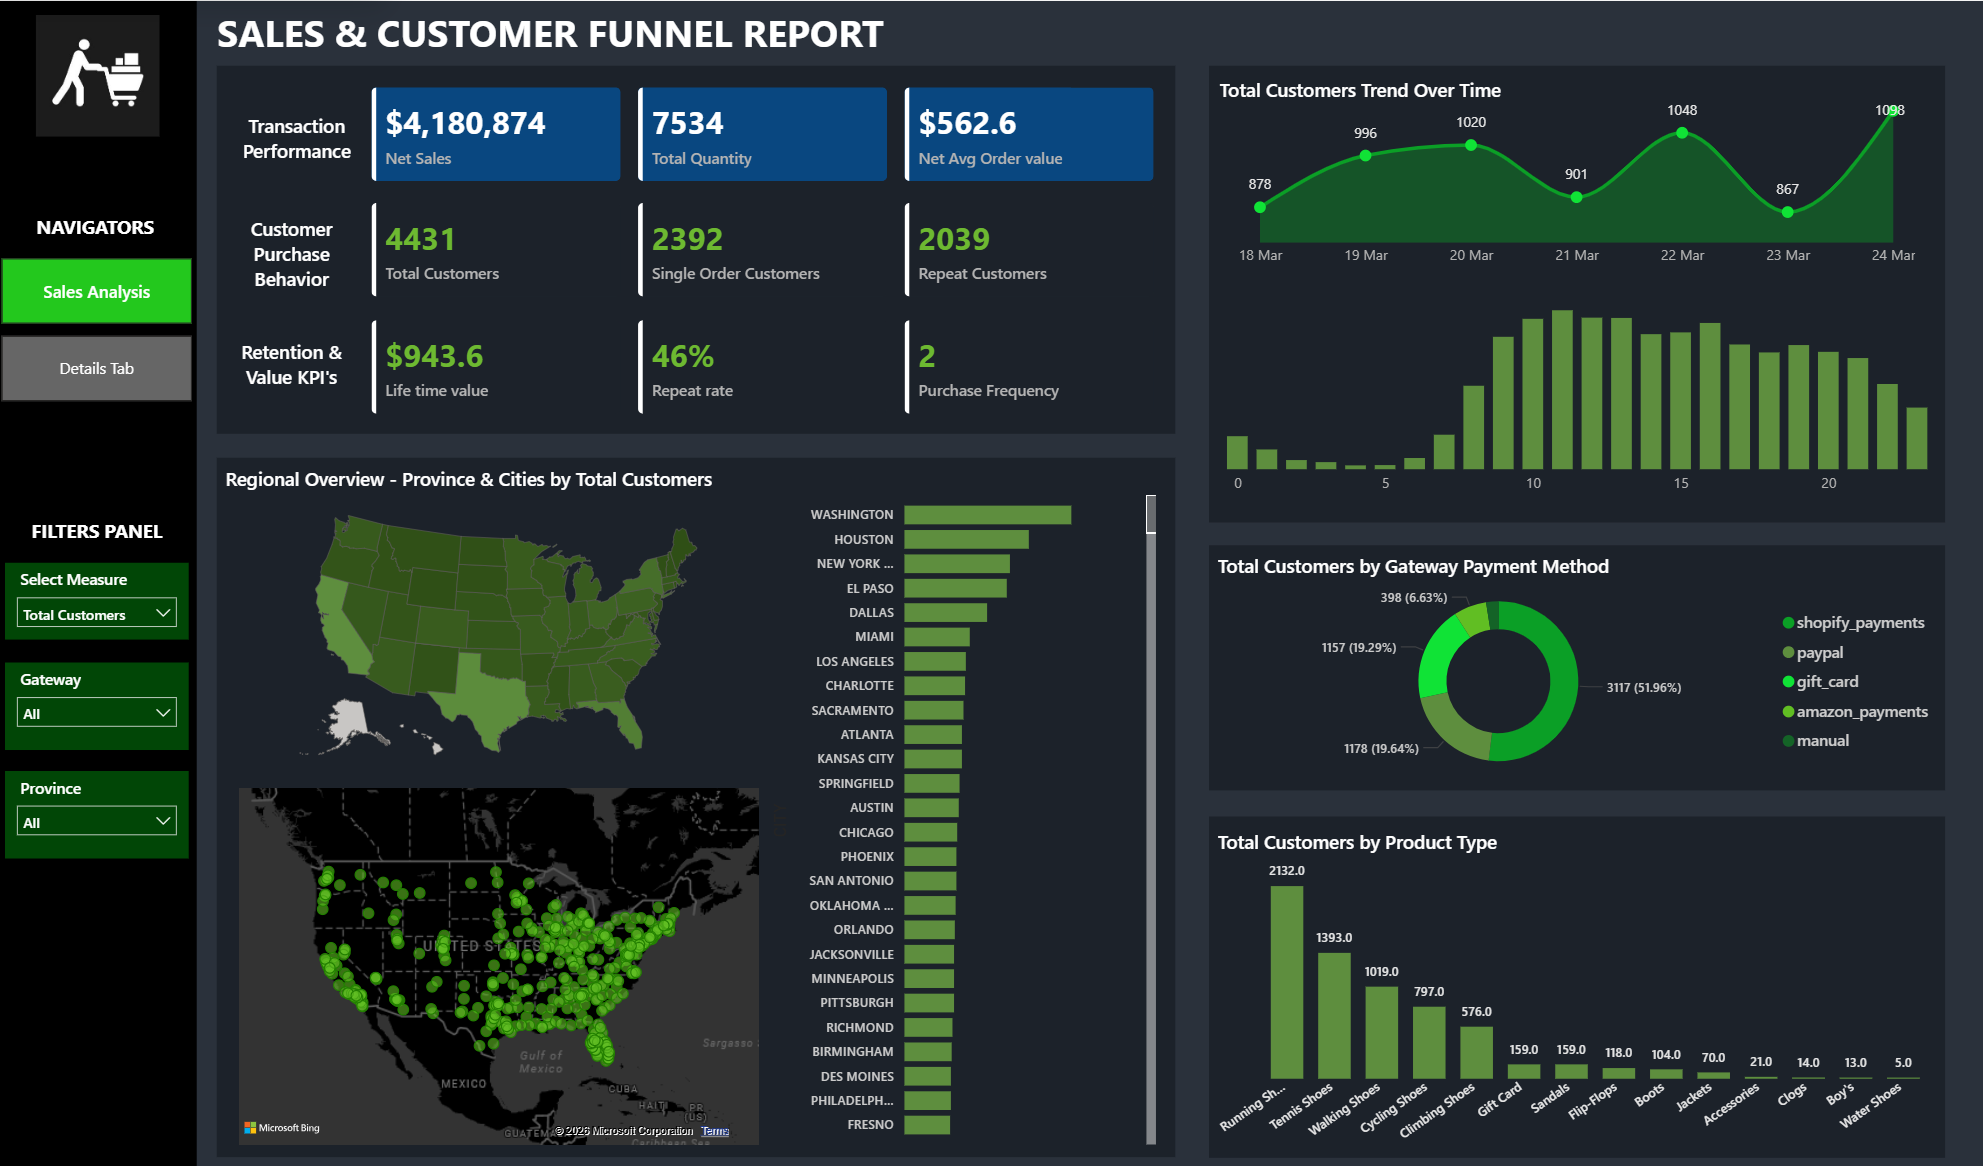

This screenshot's page, from the dashboard's own definition file:
{"tool":"powerbi","page":{"name":"Sales Analysis","canvas":[1700,1000],"ordinal":0},"visuals":[{"type":"shape","box":[186.7,390,820,598.3],"z":0},{"type":"shape","box":[0,0,170,1000],"z":1000},{"type":"textbox","box":[182.6,0,754,56.6],"z":2000},{"type":"shape","box":[186.7,55,820,315],"z":3000},{"type":"cardVisual","fields":{"Data":["shopify_sales.Net Sales","shopify_sales.Total Quantity","shopify_sales.Net Avg Order value"]},"box":[315,68.3,680,90],"z":4000},{"type":"cardVisual","fields":{"Data":["shopify_sales.Total Customers","shopify_sales.Single Order Customers","shopify_sales.Repeat Customers"]},"box":[315,168.3,680,90],"z":5000},{"type":"cardVisual","fields":{"Data":["shopify_sales.Life time value","shopify_sales.Repeat rate","shopify_sales.Purchase Frequency"]},"box":[315,268.3,680,90],"z":6000},{"type":"shapeMap","fields":{"Value":["shopify_sales.Total Customers"],"Category":["shopify_sales.Billing Address Province"]},"box":[200.8,423.6,454.6,237.3],"z":7000},{"type":"slicer","fields":{"Values":["Select Measure.Select Measure"]},"box":[6.6,480.7,157,65.7],"z":8000},{"type":"map","fields":{"Category":["shopify_sales.Location"]},"box":[200.8,668.2,454.6,315.8],"z":9000},{"type":"clusteredBarChart","fields":{"Y":["shopify_sales.Total Customers"],"Category":["shopify_sales.CITY"]},"box":[655.4,410.8,339.6,573.3],"z":10000},{"type":"cardVisual","fields":{"Data":["shopify_sales.Transaction Pref"]},"box":[197.2,74.9,116.8,82.2],"z":11000},{"type":"cardVisual","fields":{"Data":["shopify_sales.Customer Purchase Behavior"]},"box":[193.5,157,116.8,115],"z":12000},{"type":"cardVisual","fields":{"Data":["shopify_sales.Retention & Value KPI's"]},"box":[193.5,268.4,116.8,82.2],"z":13000},{"type":"cardVisual","fields":{"Data":["shopify_sales.Map Title"]},"box":[186,391,470,33],"z":14000},{"type":"shape","box":[1035.2,54.8,629.9,390.7],"z":15000},{"type":"areaChart","fields":{"Y":["shopify_sales.Total Customers"],"Category":["shopify_sales.Invoice Date.Variation.Date Hierarchy.Year","shopify_sales.Invoice Date.Variation.Date Hierarchy.Month","shopify_sales.Invoice Date.Variation.Date Hierarchy.Day"]},"box":[1055.3,74.9,589.7,160.7],"z":16000},{"type":"columnChart","fields":{"Y":["shopify_sales.Total Customers"],"Category":["shopify_sales.Hour"]},"box":[1044.3,235.5,611.6,195.4],"z":17000},{"type":"cardVisual","fields":{"Data":["shopify_sales.Trend Title"]},"box":[1035.2,58.4,286.6,32.9],"z":18000},{"type":"shape","box":[1035.2,465.6,629.9,210],"z":19000},{"type":"donutChart","fields":{"Y":["shopify_sales.Total Customers"],"Category":["shopify_sales.Gateway"]},"box":[1035.2,489.3,629.9,184.4],"z":20000},{"type":"cardVisual","fields":{"Data":["shopify_sales.Gateway Title"]},"box":[1035,465,355,33.8],"z":21000},{"type":"shape","box":[1035.2,697.4,629.9,292.1],"z":22000},{"type":"columnChart","fields":{"Y":["shopify_sales.Total Customers"],"Category":["shopify_sales.Product Type"]},"box":[1037,719.3,628,264.7],"z":23000},{"type":"cardVisual","fields":{"Data":["shopify_sales.Product Title"]},"box":[1035,701.2,303.8,35],"z":24000},{"type":"image","box":[28.1,11.6,114,104.1],"z":25000},{"type":"slicer","fields":{"Values":["shopify_sales.Gateway"]},"box":[6.6,566.5,157,74.9],"z":26000},{"type":"slicer","fields":{"Values":["shopify_sales.Billing Address Province"]},"box":[6.6,658.7,157,74.9],"z":27000},{"type":"pageNavigator","box":[3.3,219.7,163.5,122.2],"z":28000},{"type":"textbox","box":[3.3,176.7,160.2,33],"z":29000},{"type":"textbox","box":[5,437.7,160.2,33],"z":30000}]}

Visuals, with their boxes on the page's 1700x1000 design canvas (x1, y1, x2, y2). These are canvas units, not pixel positions in the 1983x1166 screenshot, which may show the page scaled, cropped or inside an application window:
shape: (187, 390, 1007, 988)
shape: (0, 0, 170, 1000)
textbox: (183, 0, 937, 57)
shape: (187, 55, 1007, 370)
cardVisual - shopify_sales.Net Sales x shopify_sales.Total Quantity: (315, 68, 995, 158)
cardVisual - shopify_sales.Total Customers x shopify_sales.Single Order Customers: (315, 168, 995, 258)
cardVisual - shopify_sales.Life time value x shopify_sales.Repeat rate: (315, 268, 995, 358)
shapeMap - shopify_sales.Total Customers x shopify_sales.Billing Address Province: (201, 424, 655, 661)
slicer - Select Measure.Select Measure: (7, 481, 164, 546)
map - shopify_sales.Location: (201, 668, 655, 984)
clusteredBarChart - shopify_sales.Total Customers x shopify_sales.CITY: (655, 411, 995, 984)
cardVisual - shopify_sales.Transaction Pref: (197, 75, 314, 157)
cardVisual - shopify_sales.Customer Purchase Behavior: (194, 157, 310, 272)
cardVisual - shopify_sales.Retention & Value KPI's: (194, 268, 310, 351)
cardVisual - shopify_sales.Map Title: (186, 391, 656, 424)
shape: (1035, 55, 1665, 446)
areaChart - shopify_sales.Total Customers x shopify_sales.Invoice Date.Variation.Date Hierarchy.Year: (1055, 75, 1645, 236)
columnChart - shopify_sales.Total Customers x shopify_sales.Hour: (1044, 236, 1656, 431)
cardVisual - shopify_sales.Trend Title: (1035, 58, 1322, 91)
shape: (1035, 466, 1665, 676)
donutChart - shopify_sales.Total Customers x shopify_sales.Gateway: (1035, 489, 1665, 674)
cardVisual - shopify_sales.Gateway Title: (1035, 465, 1390, 499)
shape: (1035, 697, 1665, 990)
columnChart - shopify_sales.Total Customers x shopify_sales.Product Type: (1037, 719, 1665, 984)
cardVisual - shopify_sales.Product Title: (1035, 701, 1339, 736)
image: (28, 12, 142, 116)
slicer - shopify_sales.Gateway: (7, 566, 164, 641)
slicer - shopify_sales.Billing Address Province: (7, 659, 164, 734)
pageNavigator: (3, 220, 167, 342)
textbox: (3, 177, 164, 210)
textbox: (5, 438, 165, 471)
